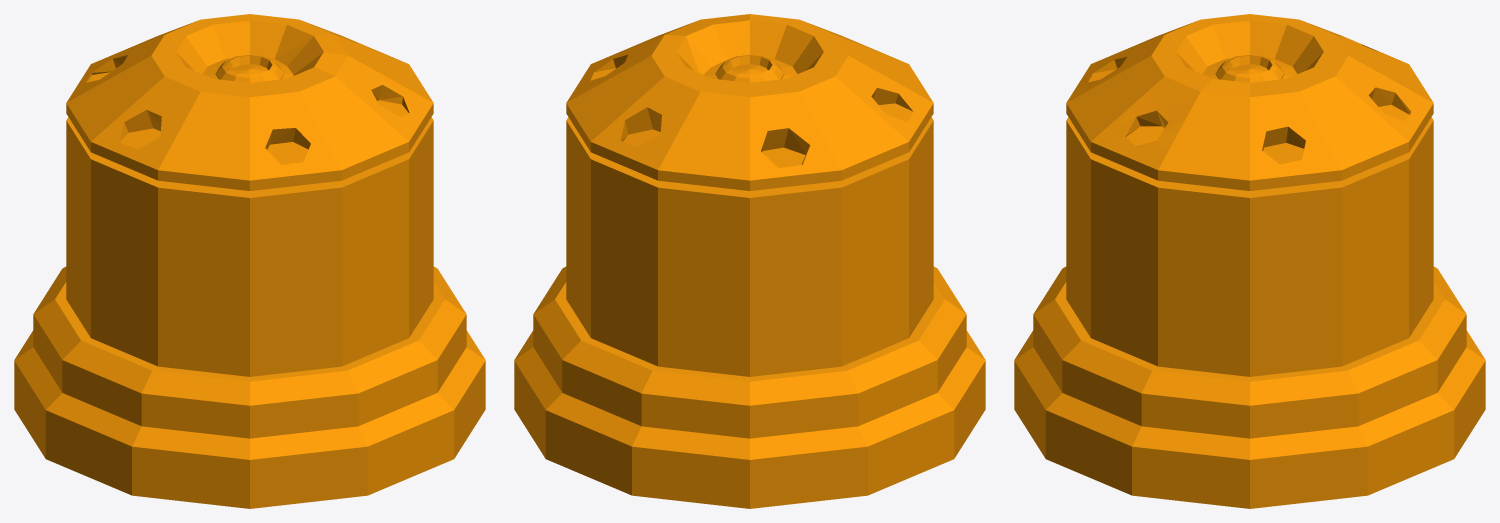
File: barrel02.glb
3 views of the same model, side by side, from view 1: azimuth 30°, elevation 25°; view 2: azimuth 150°, elevation 25°; view 3: azimuth 270°, elevation 25° (orthographic).
Parts seen in each view (by area): view 1: group2137837017; view 2: group2137837017; view 3: group2137837017.
Boxes of the visible parts, bbox=[...] form: group2137837017: bbox=[14, 14, 485, 508]; group2137837017: bbox=[514, 14, 985, 508]; group2137837017: bbox=[1014, 14, 1485, 508].
Bounding box in the file's own units: 0.48 × 0.4016 × 0.48.
